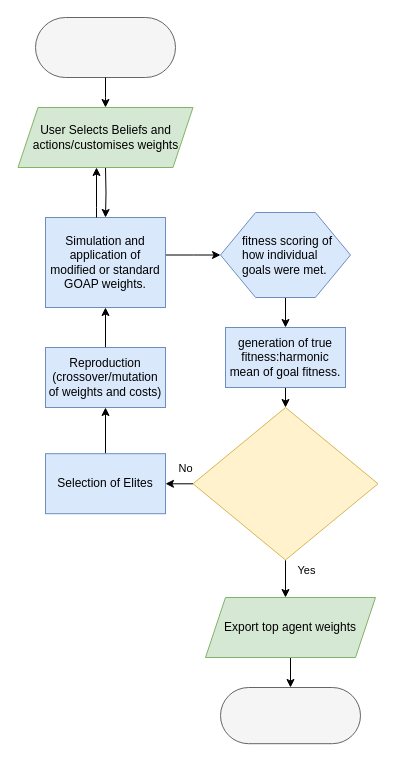
This 395x762 diagram has some shape labels left out. The shapes that lost their labels are listed below. From the top down, each one's box as (x1, y1, x2, y2) in pixels, then its label:
(34, 16, 176, 78): Start
(192, 406, 378, 560): has maximum number of generations been reached/have we hit desired fitness range
(220, 686, 360, 744): End
